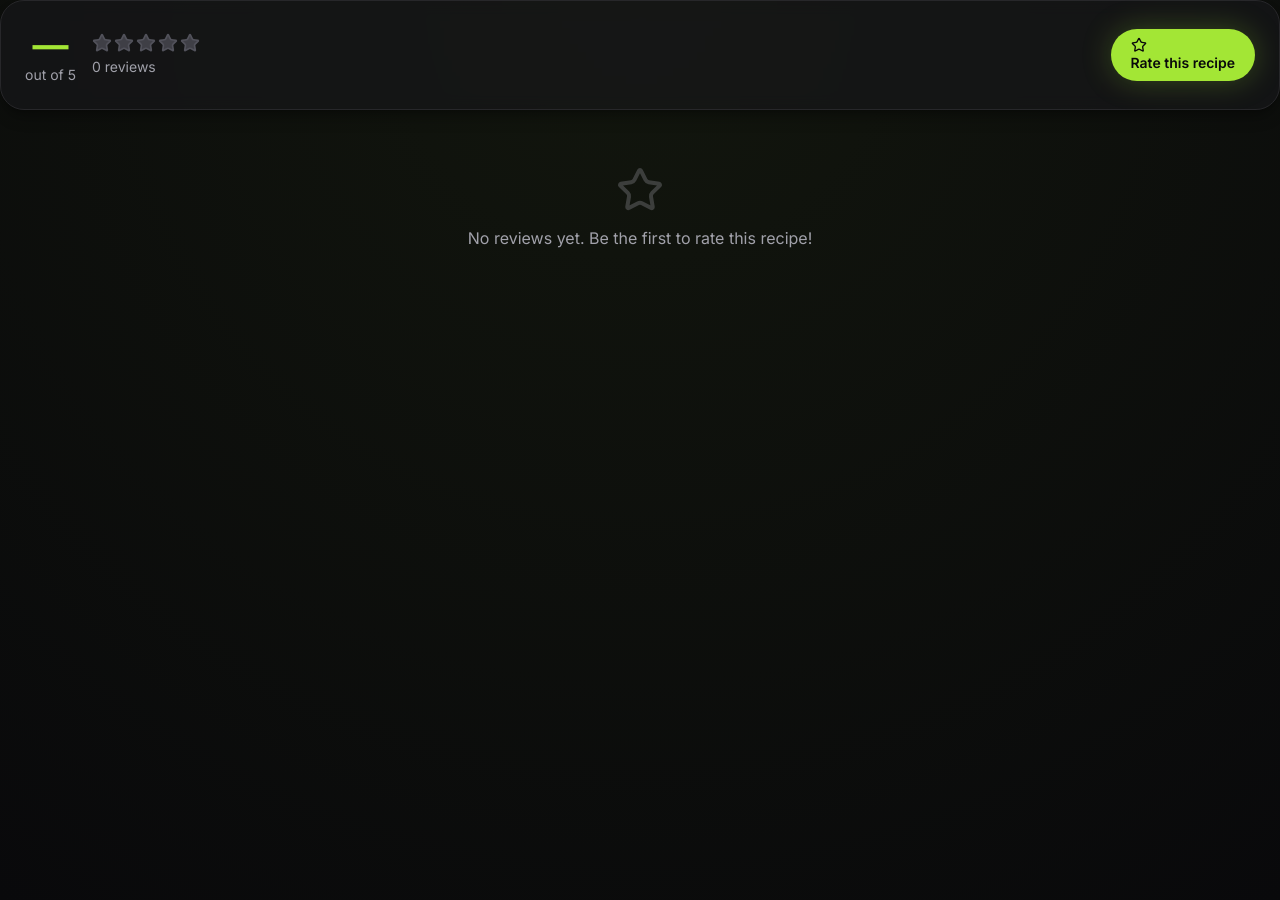
Scenario: RecipeRating Component › shows the rating form when button is clicked
Expected: the text "Rate this recipe" is shown, [1130,37,1235,73]
Click the button "Rate this recipe": click(1183, 55) [1110,29,1255,81]
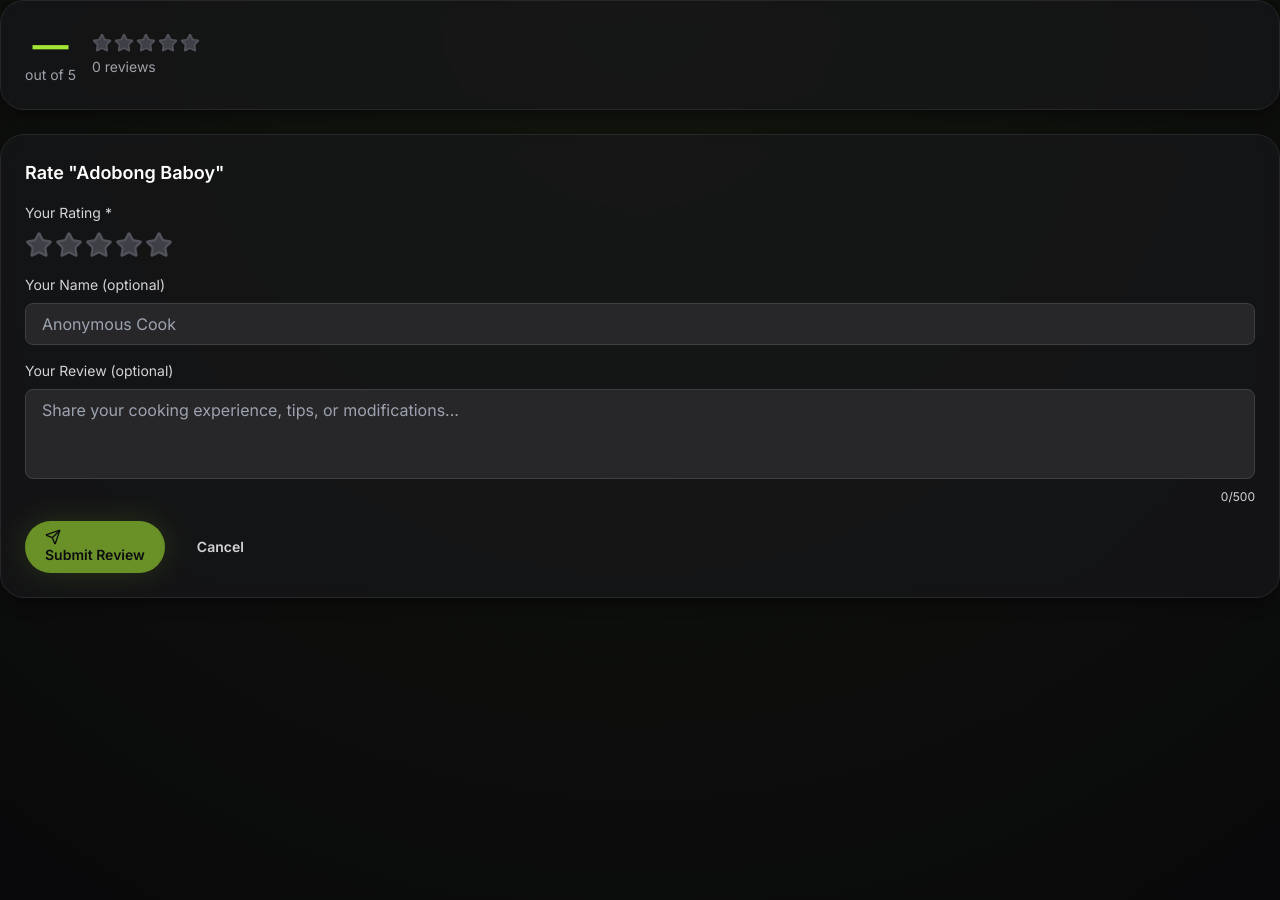
Expected: the text "Your Rating *" is shown, [25,204,112,221]
Expected: the field with placeholder "Anonymous Cook" is shown, [25,303,1255,345]
Expected: the text "Submit Review" is shown, [45,529,145,565]
